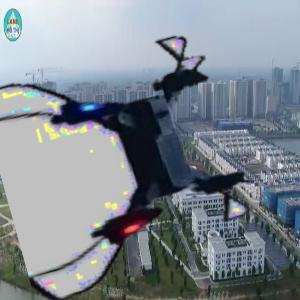drone: (2, 38, 249, 285)
